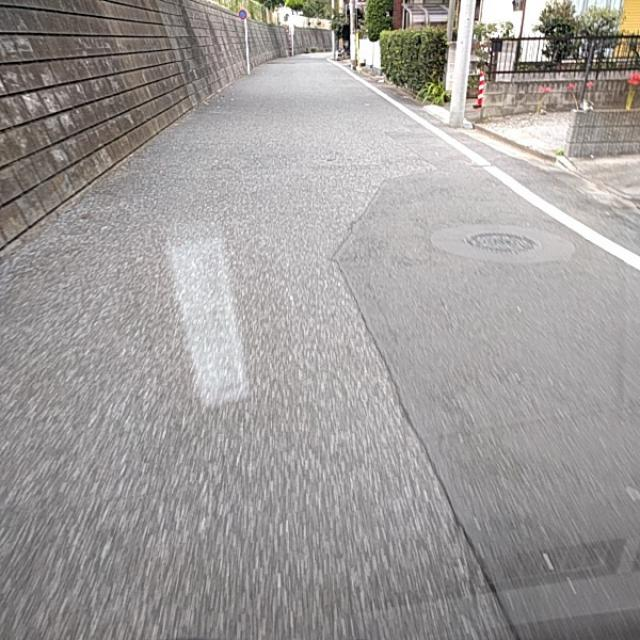pothole: (303, 291, 413, 397)
